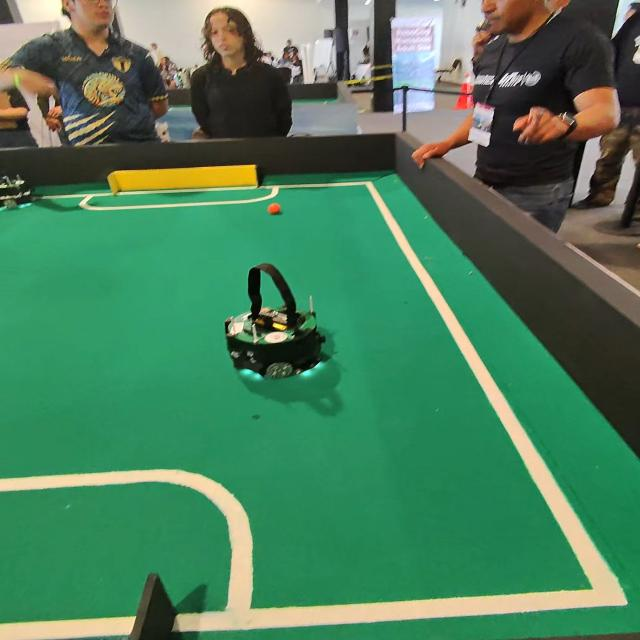Robot: (212, 255, 364, 412), (0, 160, 49, 220)
pelota: (256, 198, 300, 226)
